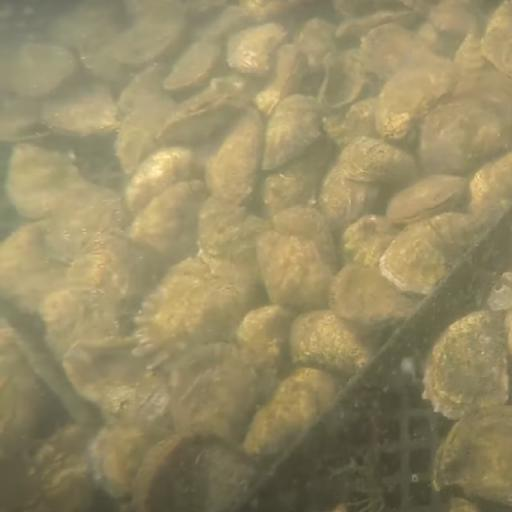Oyster-Closed: (147, 258, 255, 365), (423, 313, 508, 421), (171, 343, 257, 440), (384, 218, 482, 302), (248, 371, 339, 456), (440, 400, 512, 504), (1, 224, 66, 314), (327, 262, 417, 327), (420, 97, 501, 169), (133, 181, 206, 258), (206, 110, 264, 203), (366, 29, 455, 88), (10, 147, 83, 217), (260, 236, 332, 305), (128, 148, 198, 214), (292, 311, 366, 373), (274, 209, 339, 275), (265, 97, 323, 170), (124, 92, 175, 175), (46, 82, 120, 138), (320, 165, 382, 229), (378, 72, 435, 139), (7, 44, 77, 95), (256, 47, 307, 115), (344, 134, 416, 182), (470, 151, 512, 232), (202, 200, 274, 247), (389, 175, 467, 218), (241, 305, 294, 367), (166, 96, 235, 141), (229, 28, 291, 77), (112, 24, 181, 67), (164, 42, 219, 92), (344, 214, 394, 265), (333, 10, 418, 38), (485, 1, 512, 69), (260, 173, 299, 213), (431, 5, 478, 32)
Oyster-Open: (91, 430, 144, 502)
